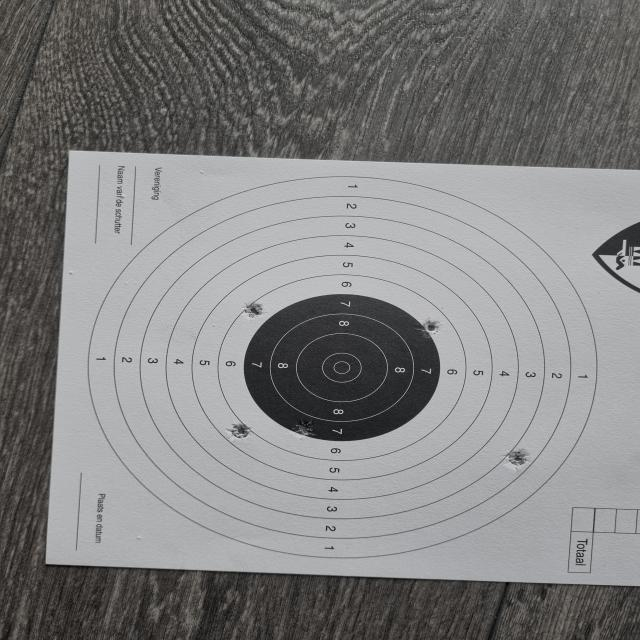3: (503, 452, 526, 466)
6: (244, 302, 267, 318), (226, 424, 251, 438)
7: (416, 318, 441, 335), (292, 420, 317, 436)
Target: (93, 174, 603, 561)
black_contour: (245, 294, 440, 442)
